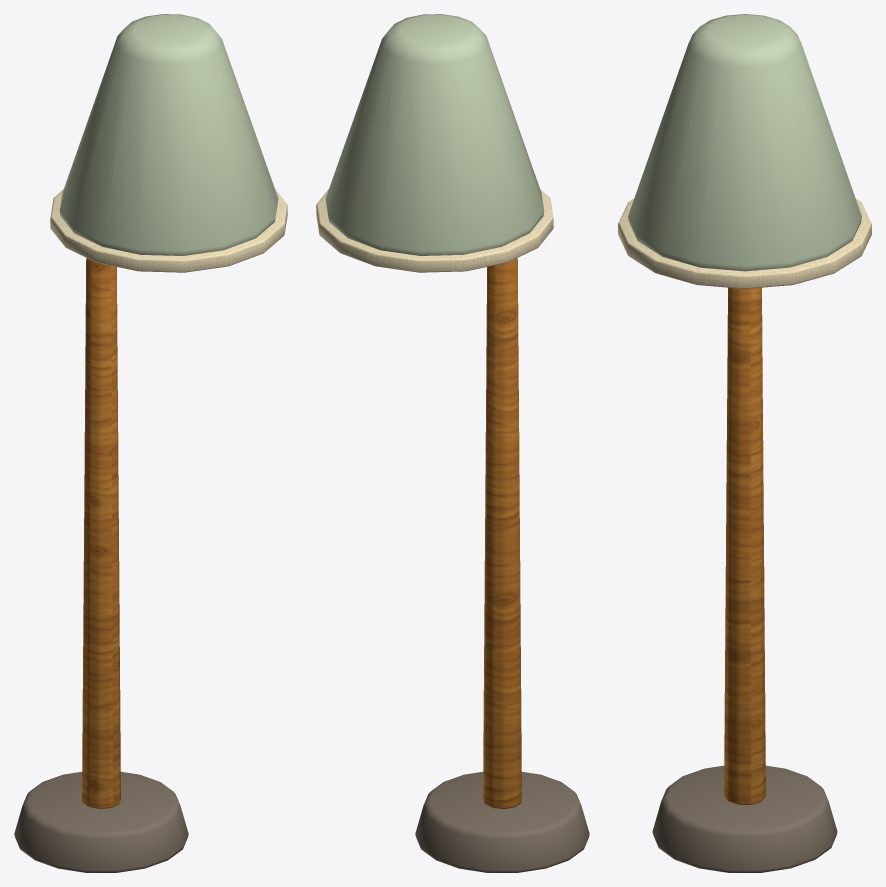
The model's file is floor-lamp.glb.
The picture shows the model from 3 angles, left to right: view 1: azimuth 30°, elevation 25°; view 2: azimuth 150°, elevation 25°; view 3: azimuth 270°, elevation 25°; orthographic projection. The views are drawn at different scales.
Parts seen in each view (by area): view 1: floor-lamp; view 2: floor-lamp; view 3: floor-lamp.
Boxes of the visible parts, <box> form: floor-lamp: <box>14,14,287,872</box>; floor-lamp: <box>316,14,589,872</box>; floor-lamp: <box>618,14,871,872</box>.
Size of the model in its own units: 0.4906 by 1.51 by 0.414.
4 materials, 2 textured.
